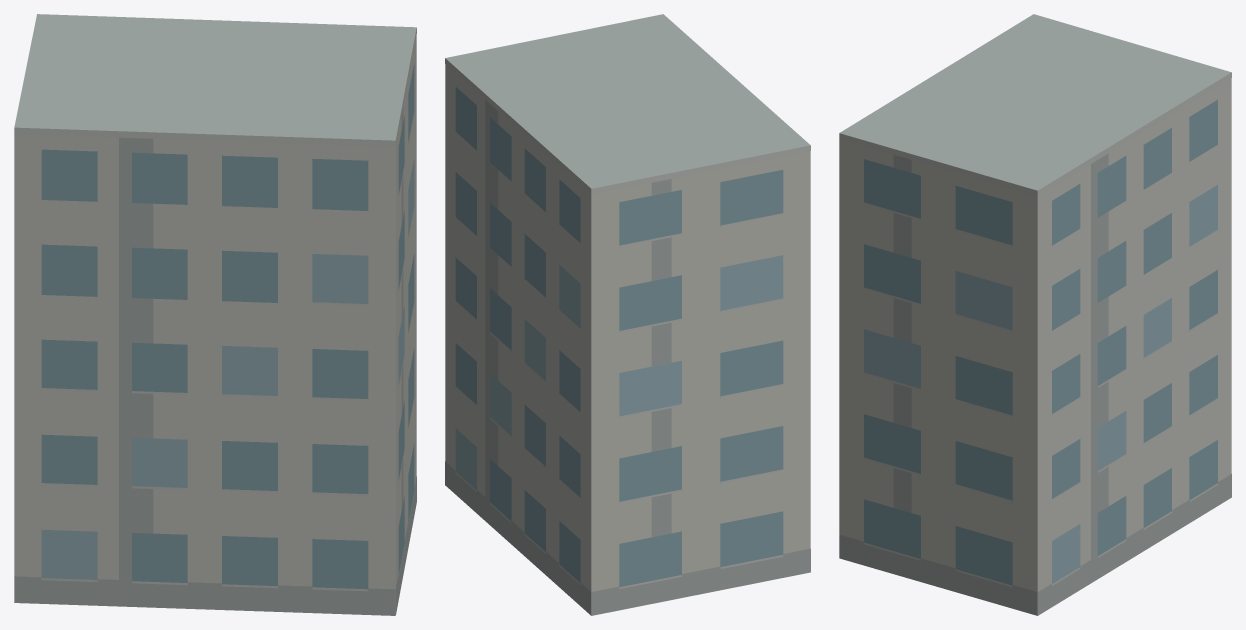
The model's file is survey-upis-32913908.glb.
The picture shows the model from 3 angles, left to right: view 1: azimuth 30°, elevation 25°; view 2: azimuth 150°, elevation 25°; view 3: azimuth 270°, elevation 25°; orthographic projection. The views are drawn at different scales.
Parts seen in each view (by area): view 1: survey-upis-32913908.tmp; view 2: survey-upis-32913908.tmp; view 3: survey-upis-32913908.tmp.
Boxes of the visible parts, <box> form: survey-upis-32913908.tmp: <box>14,14,416,615</box>; survey-upis-32913908.tmp: <box>445,14,810,615</box>; survey-upis-32913908.tmp: <box>839,14,1231,615</box>.
Bounding box in the file's own units: 15.86 × 17.79 × 14.89.
